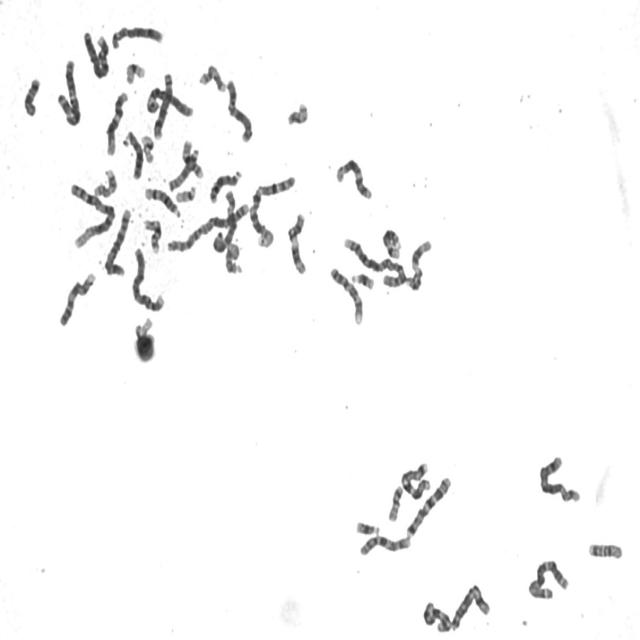A1: (247, 171, 298, 244), (67, 179, 118, 250)
A2: (164, 199, 249, 255), (342, 233, 408, 290)
A3: (526, 556, 570, 602), (54, 56, 82, 128)
B4: (130, 244, 166, 314), (80, 27, 112, 80)
B5: (102, 204, 134, 278), (537, 453, 582, 504)
C10: (357, 531, 413, 558), (418, 595, 452, 635)
C11: (285, 209, 309, 276), (407, 236, 434, 291)
C12: (103, 88, 130, 158), (333, 155, 374, 201)
C6: (143, 84, 195, 120), (212, 187, 238, 255)
C7: (404, 473, 453, 538), (398, 458, 432, 501)
C8: (151, 69, 175, 141), (109, 22, 165, 51)
C9: (57, 270, 97, 328), (328, 264, 365, 326)
D13: (208, 167, 243, 205), (121, 128, 144, 181)
D14: (143, 184, 182, 219), (382, 226, 402, 260)
D15: (166, 144, 201, 194), (223, 240, 244, 276)
E16: (180, 136, 205, 180), (140, 215, 163, 255)
E17: (197, 61, 228, 94), (92, 166, 118, 200)
E18: (21, 74, 42, 118), (586, 538, 624, 562)
F19: (123, 59, 147, 85), (139, 132, 156, 164)
F20: (386, 482, 404, 524), (284, 100, 310, 128)
G21: (348, 269, 376, 291), (354, 517, 382, 537)
G22: (132, 314, 154, 343), (173, 182, 198, 204)
X: (448, 583, 492, 633), (224, 76, 254, 144)
